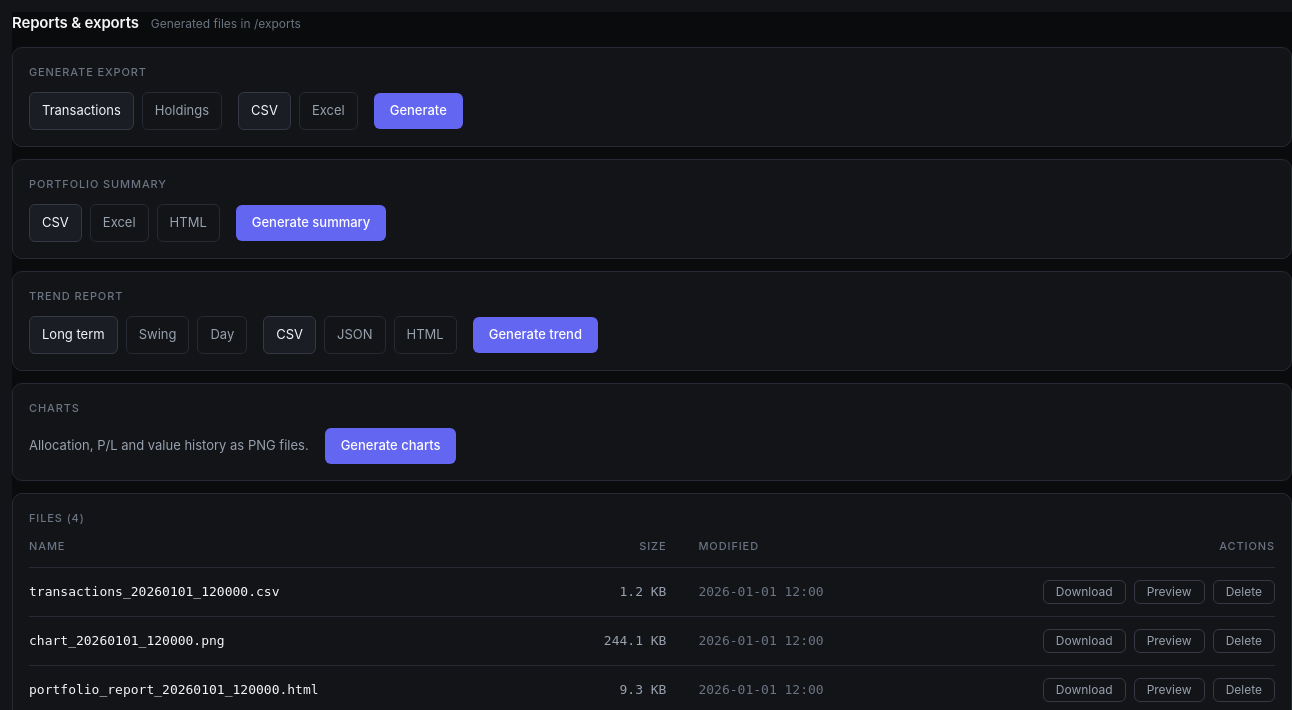
Test: Reports delete › posts the name plus confirmation and reloads the list
Check: the text "transactions_20260101_120000.csv" is shown, box 29,567 -> 544,616
Click the button "Delete" in the row of "transactions_20260101_120000.csv" at x=1244, y=592, box 1213,580 -> 1275,604
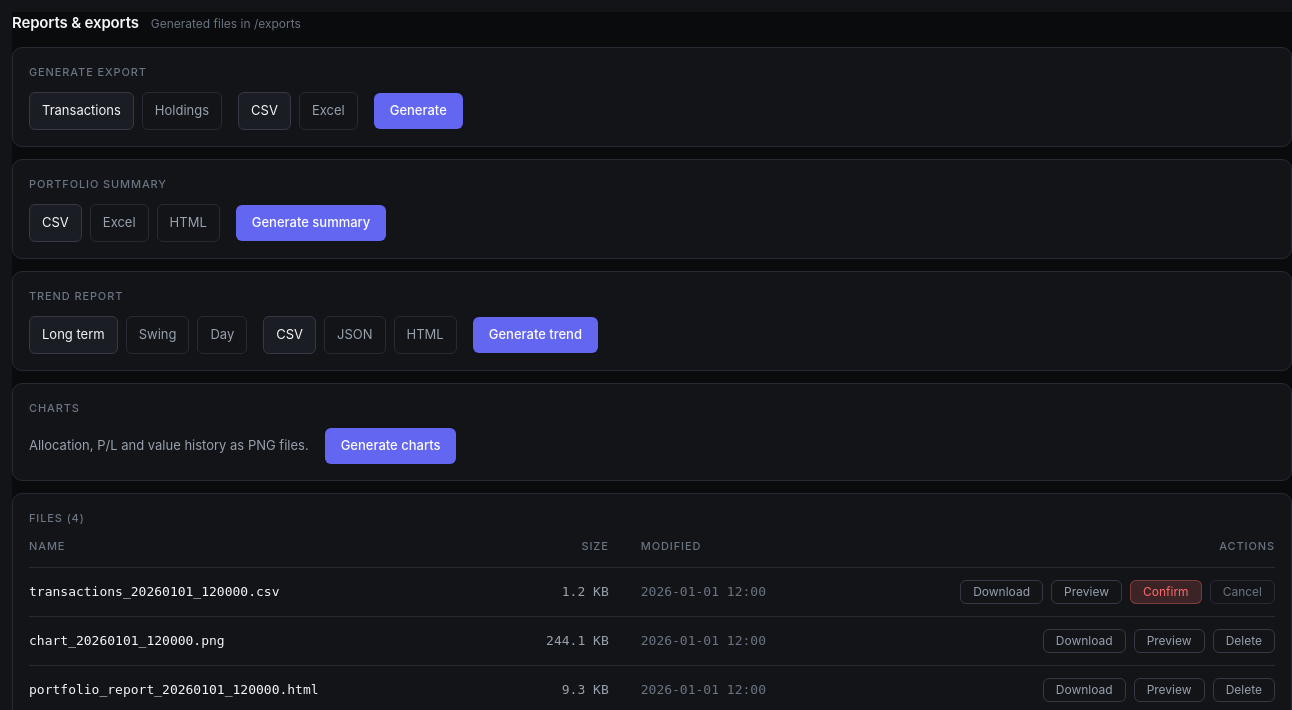
Click the button "Confirm" at x=1166, y=592, box 1130,580 -> 1202,604
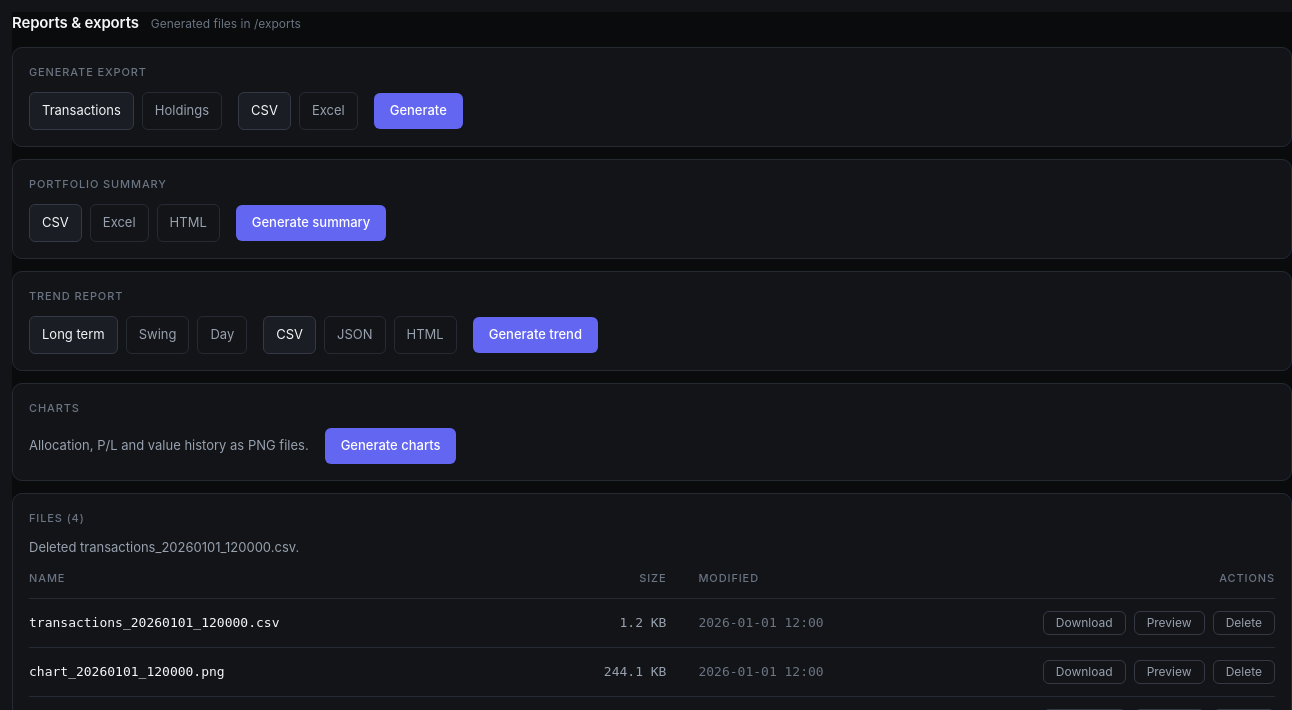
Check: the text "Deleted transactions_20260101_120000.csv." is shown, box 29,539 -> 299,555
